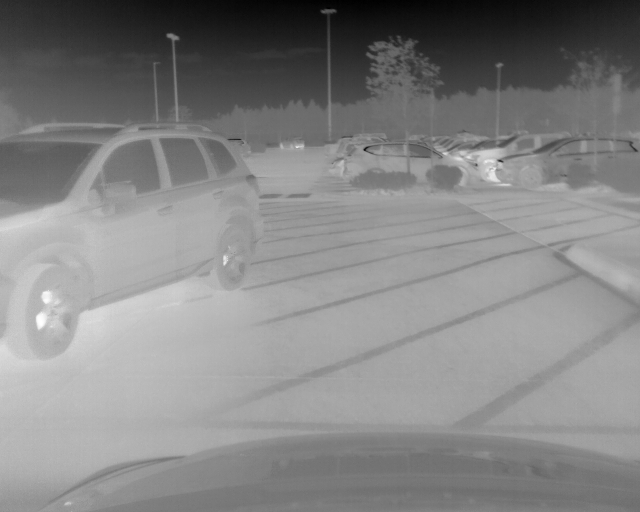car: (2, 121, 266, 360), (493, 133, 640, 186), (342, 140, 481, 187), (467, 130, 573, 184), (278, 135, 305, 149)
